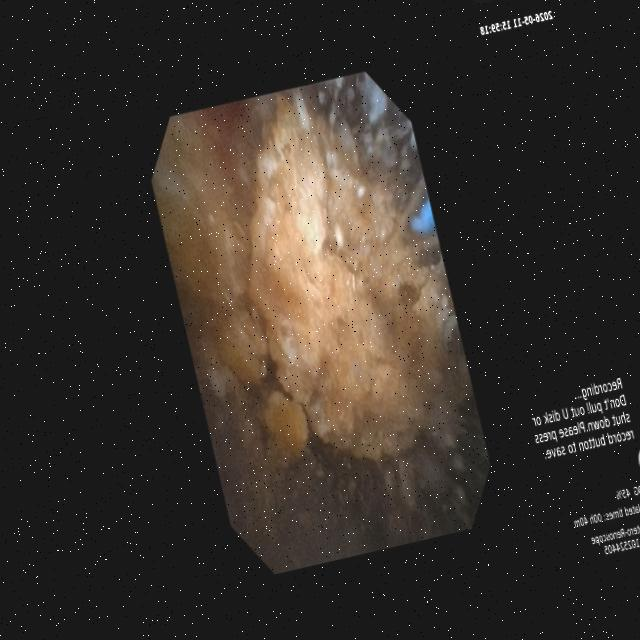laser-fibre: (372, 205, 423, 275)
stone-new: (250, 92, 456, 459), (152, 114, 251, 307), (214, 302, 268, 383), (264, 391, 308, 466)
